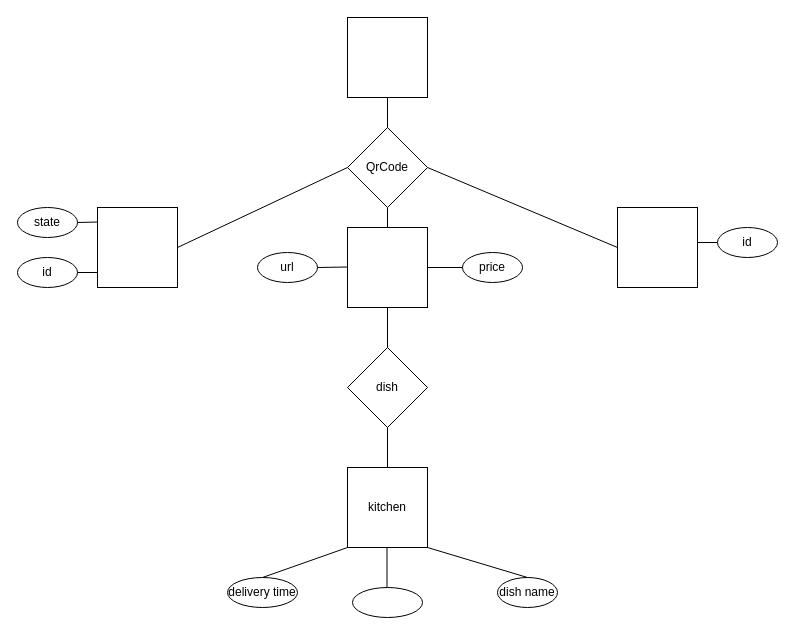
This 795x635 diagram has some shape labels left out. The centre of each missing label's shape, as x and y in pixels:
"client" goes at point (387, 57).
"menu" goes at point (387, 267).
"resturant" goes at point (657, 247).
"table" goes at point (137, 247).
"table num" goes at point (387, 602).
